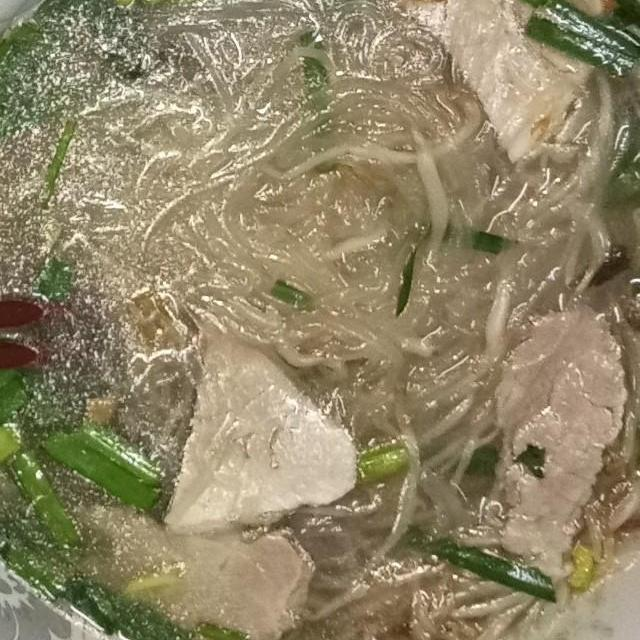banh hu tieu: (94, 0, 503, 379), (470, 115, 626, 338)
hu tieu: (0, 0, 640, 640)
thit heo: (153, 322, 363, 544), (474, 301, 636, 584), (372, 0, 619, 168), (60, 487, 319, 640)
